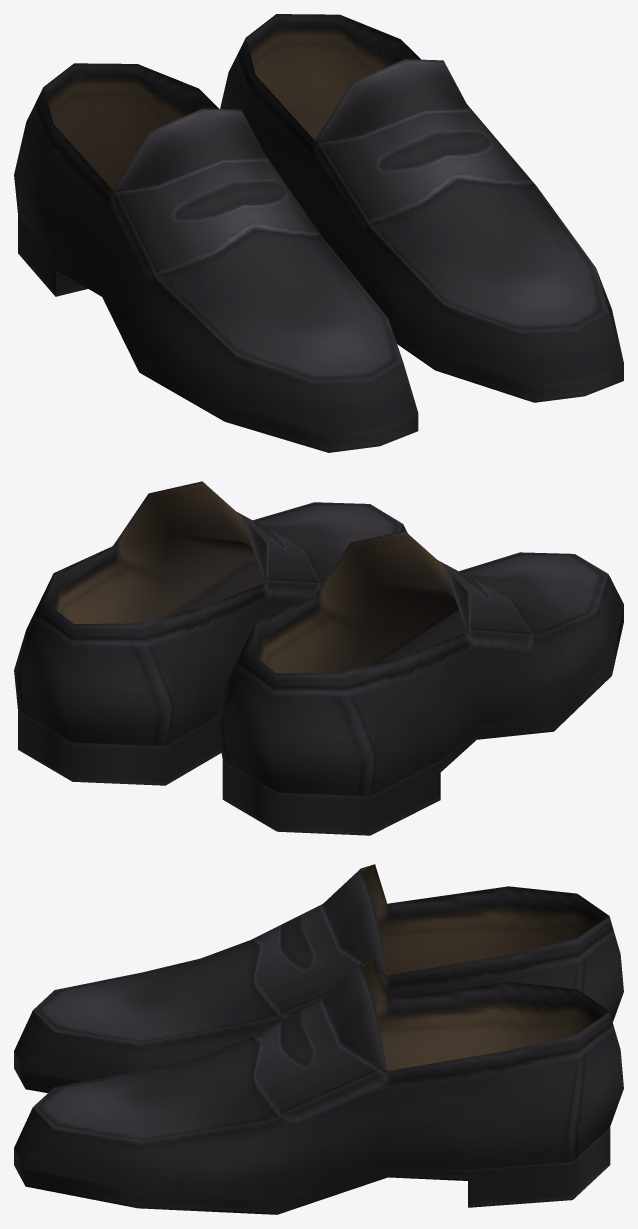
The model's file is set_loafers_01.fbx.
3 views of the same model, one above another, from view 1: azimuth 30°, elevation 25°; view 2: azimuth 150°, elevation 25°; view 3: azimuth 270°, elevation 25° (orthographic). The views are drawn at different scales.
Visible parts, largest first — view 1: loafers_01_R, loafers_01_L; view 2: loafers_01_R, loafers_01_L; view 3: loafers_01_L, loafers_01_R.
Boxes of the visible parts, left/top/right/bottom form: loafers_01_R: left=14, top=63, right=418, bottom=452; loafers_01_L: left=220, top=14, right=623, bottom=402; loafers_01_R: left=216, top=530, right=623, bottom=835; loafers_01_L: left=14, top=481, right=407, bottom=785; loafers_01_L: left=14, top=960, right=623, bottom=1214; loafers_01_R: left=14, top=864, right=623, bottom=1092.
Size of the model in its own units: 18.76 by 8.93 by 24.65.
